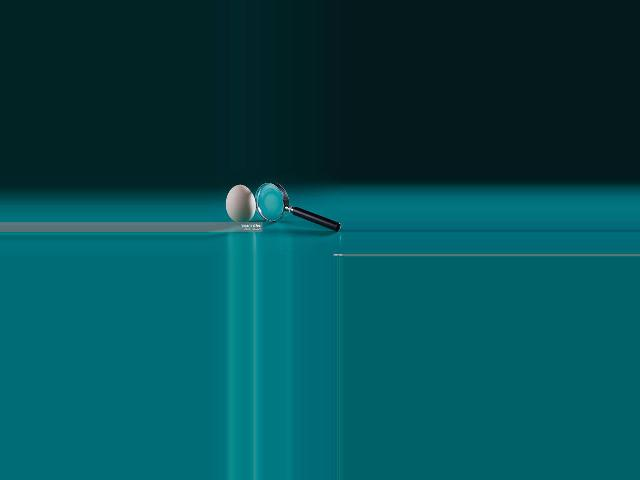egg: (225, 184, 255, 223)
